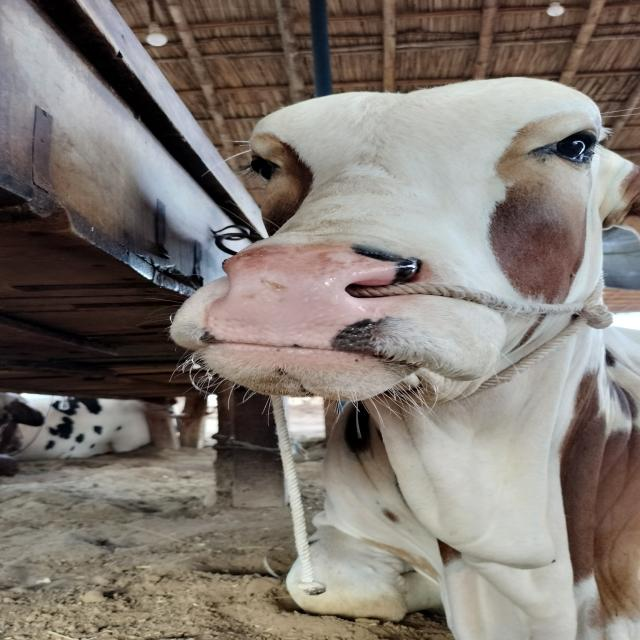muzzles: (206, 235, 429, 363)
